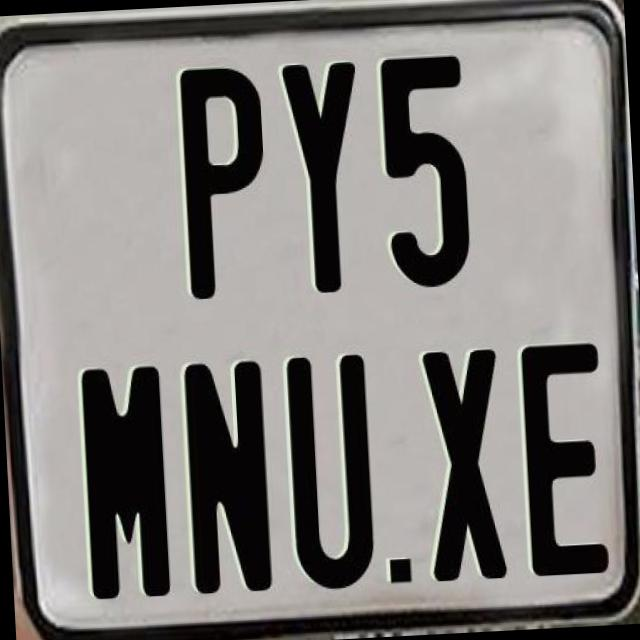5: (376, 50, 474, 291)
E: (516, 342, 612, 578)
M: (78, 363, 176, 608)
N: (179, 358, 274, 598)
P: (178, 65, 274, 308)
U: (286, 350, 380, 590)
X: (418, 344, 506, 578)
Y: (278, 57, 372, 296)
